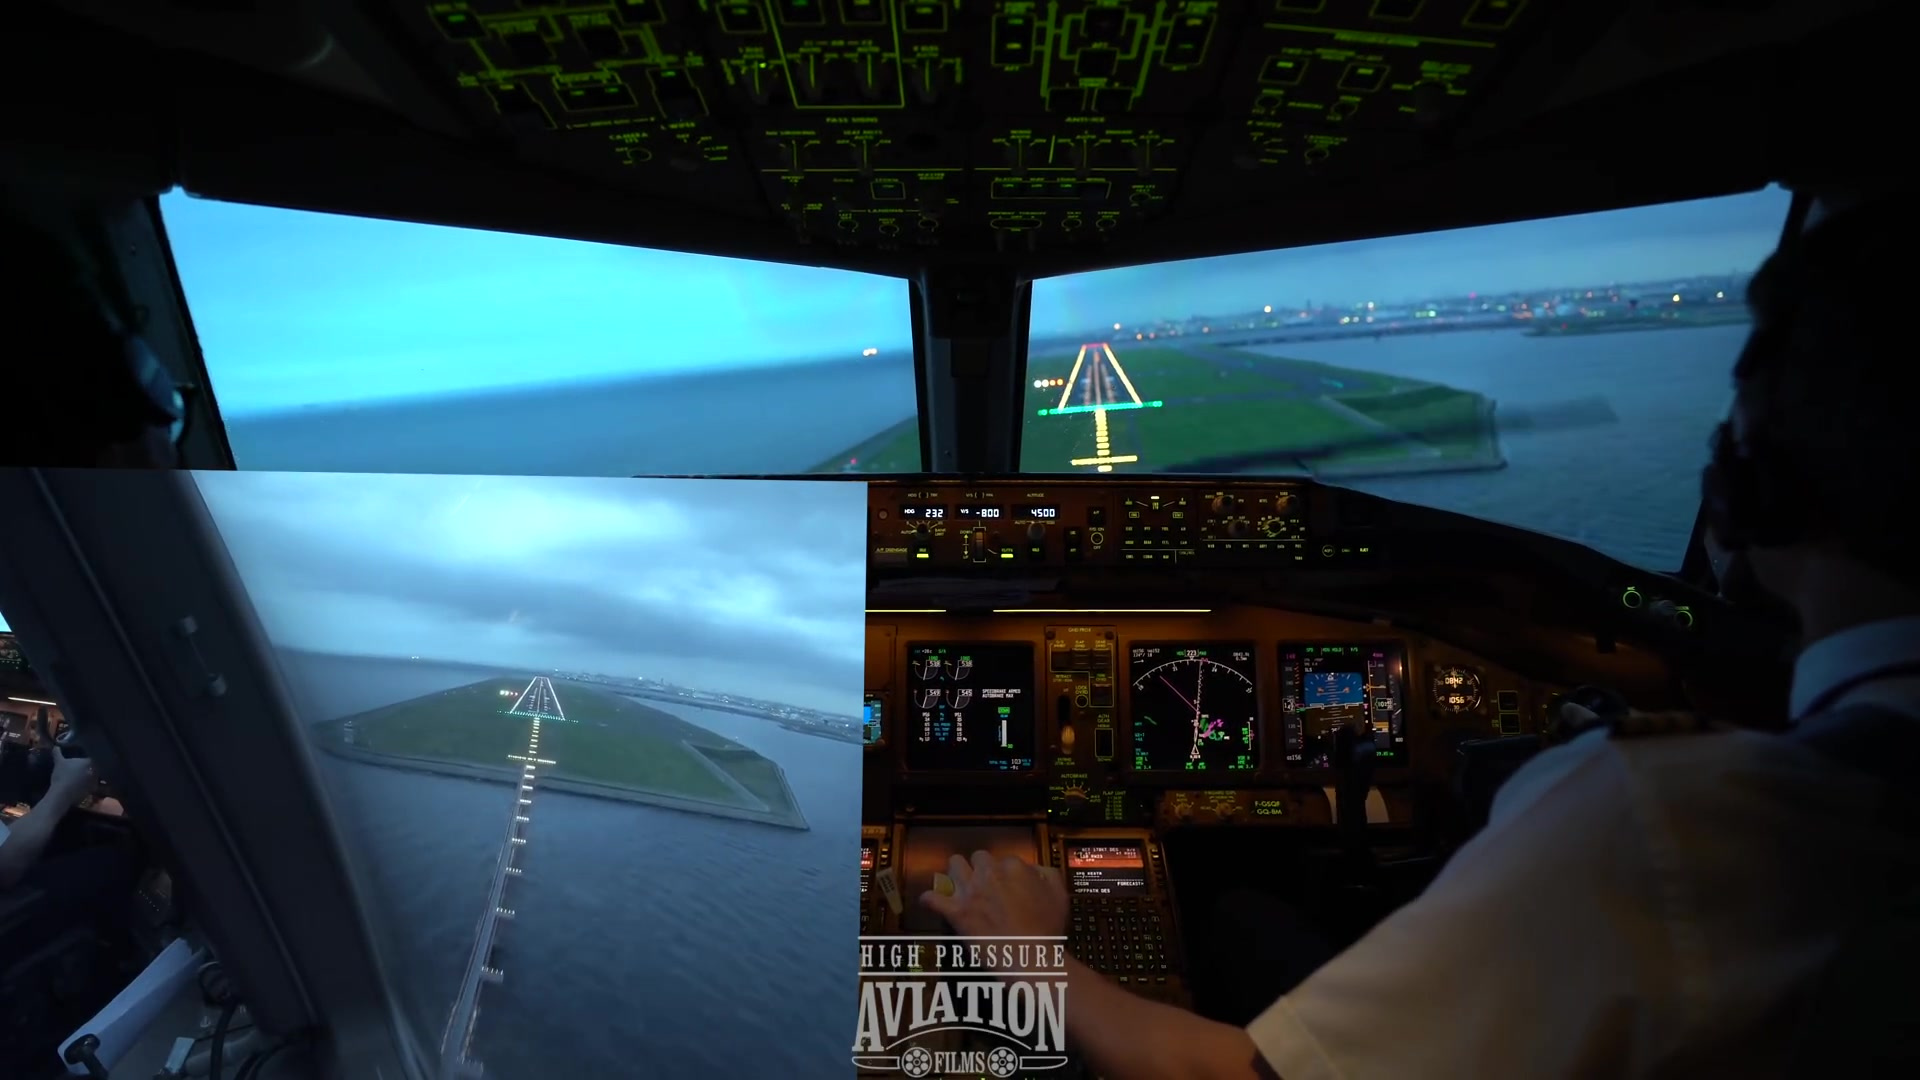runway: (1058, 342, 1149, 415), (509, 673, 567, 723)
